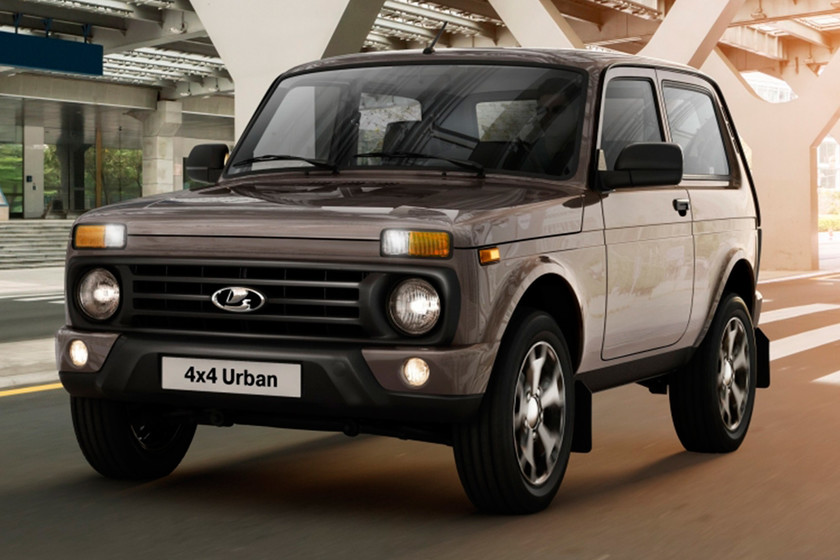Camioneta: (38, 43, 772, 490)
